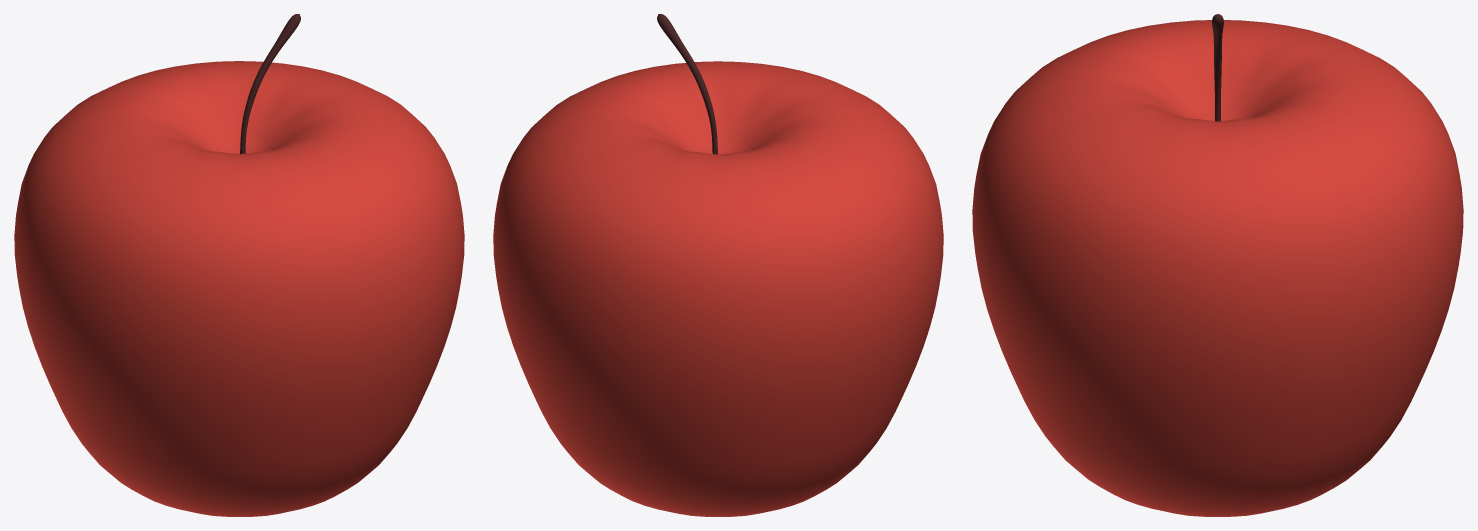
The model's file is Apple.fbx.
The picture shows the model from 3 angles, left to right: view 1: azimuth 30°, elevation 25°; view 2: azimuth 150°, elevation 25°; view 3: azimuth 270°, elevation 25°; orthographic projection. The views are drawn at different scales.
Visible parts, largest first — view 1: appleBody, appleStem; view 2: appleBody, appleStem; view 3: appleBody, appleStem.
Part boxes in pixels (x1,y1,x2,y2): appleBody: (14,61,464,516); appleStem: (240,14,300,153); appleBody: (493,61,943,516); appleStem: (657,14,717,154); appleBody: (972,20,1463,516); appleStem: (1212,14,1223,121).
Size of the model in its own units: 194 by 214 by 194.
